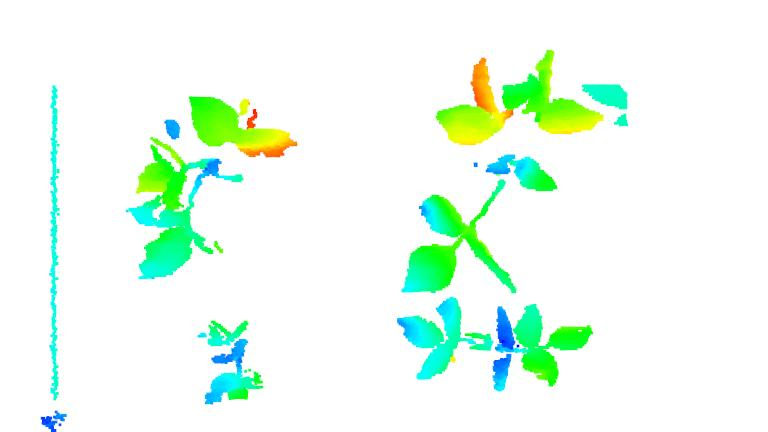mungbean: (397, 47, 609, 299), (122, 86, 302, 282), (395, 295, 598, 392), (193, 316, 279, 412)
